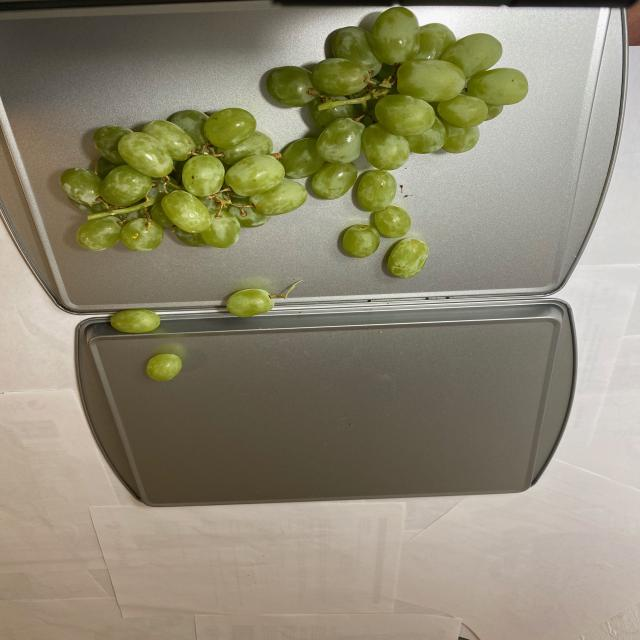grapes: (65, 9, 538, 278), (107, 274, 288, 382)
